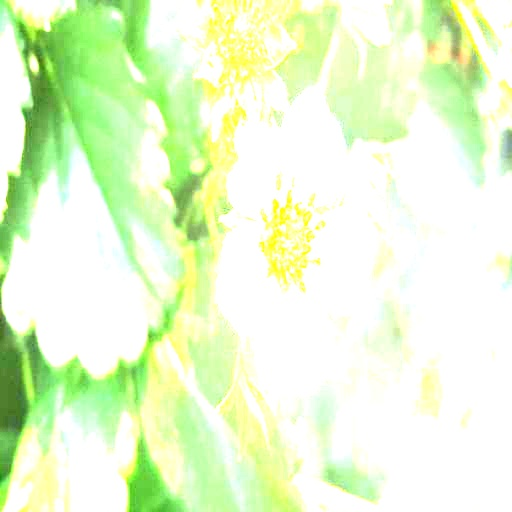Blossom Blight: (253, 166, 330, 301), (206, 0, 285, 91)
